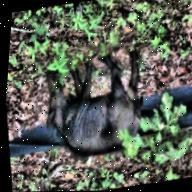boar: (30, 46, 159, 181)
